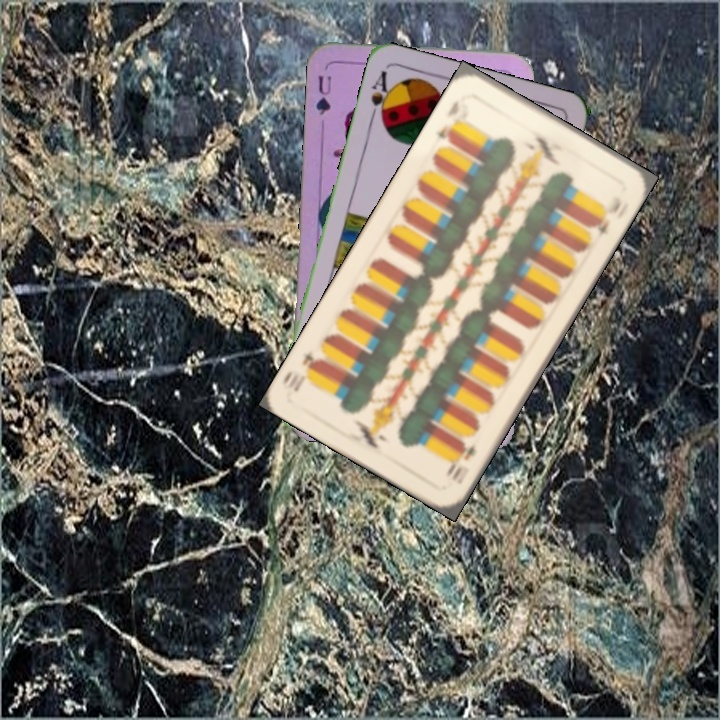E10: (442, 439, 479, 484), (431, 96, 462, 146)
GU: (311, 71, 334, 120)
SA: (365, 66, 396, 127)
